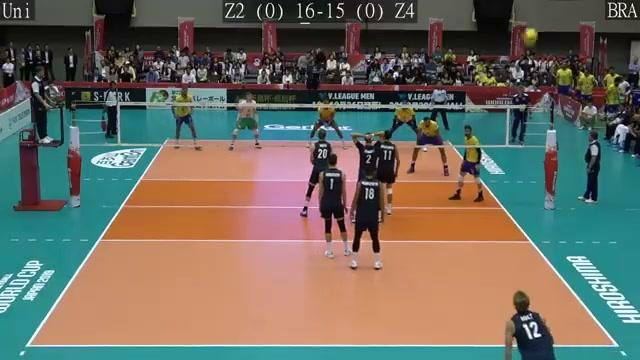ball: (522, 24, 538, 47)
